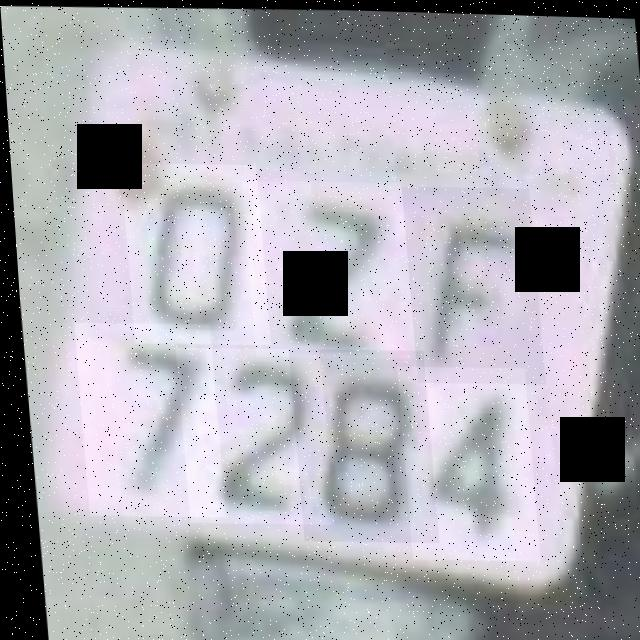2: (170, 344, 327, 525)
4: (391, 362, 533, 560)
7: (69, 320, 218, 518)
8: (283, 345, 431, 542)
F: (399, 182, 540, 383)
O: (117, 160, 266, 345)
Z: (239, 176, 411, 359)
